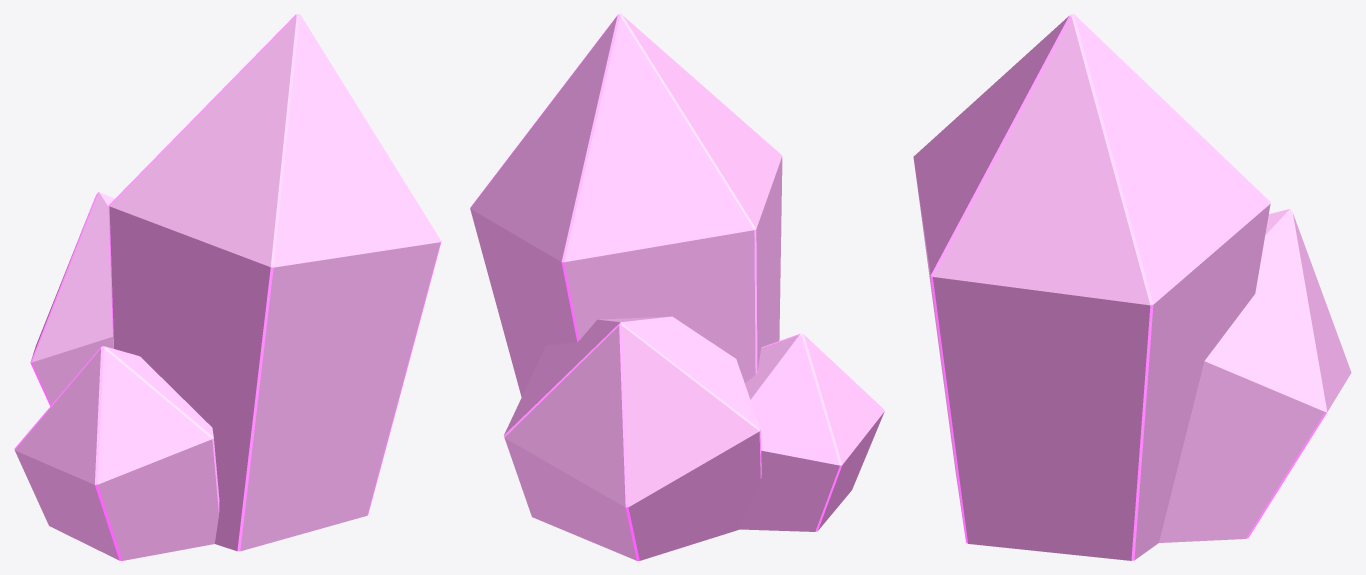
Rendered from crystal.fbx.
3 renders of one model, left to right at view 1: azimuth 30°, elevation 25°; view 2: azimuth 150°, elevation 25°; view 3: azimuth 270°, elevation 25°, orthographic. The views are drawn at different scales.
Parts seen in each view (by area): view 1: Cylinder.001; view 2: Cylinder.001; view 3: Cylinder.001.
Boxes of the visible parts, left/top/right/bottom form: Cylinder.001: left=14, top=14, right=441, bottom=560; Cylinder.001: left=470, top=14, right=884, bottom=560; Cylinder.001: left=913, top=14, right=1351, bottom=560.
Size of the model in its own units: 123 by 135 by 160.
